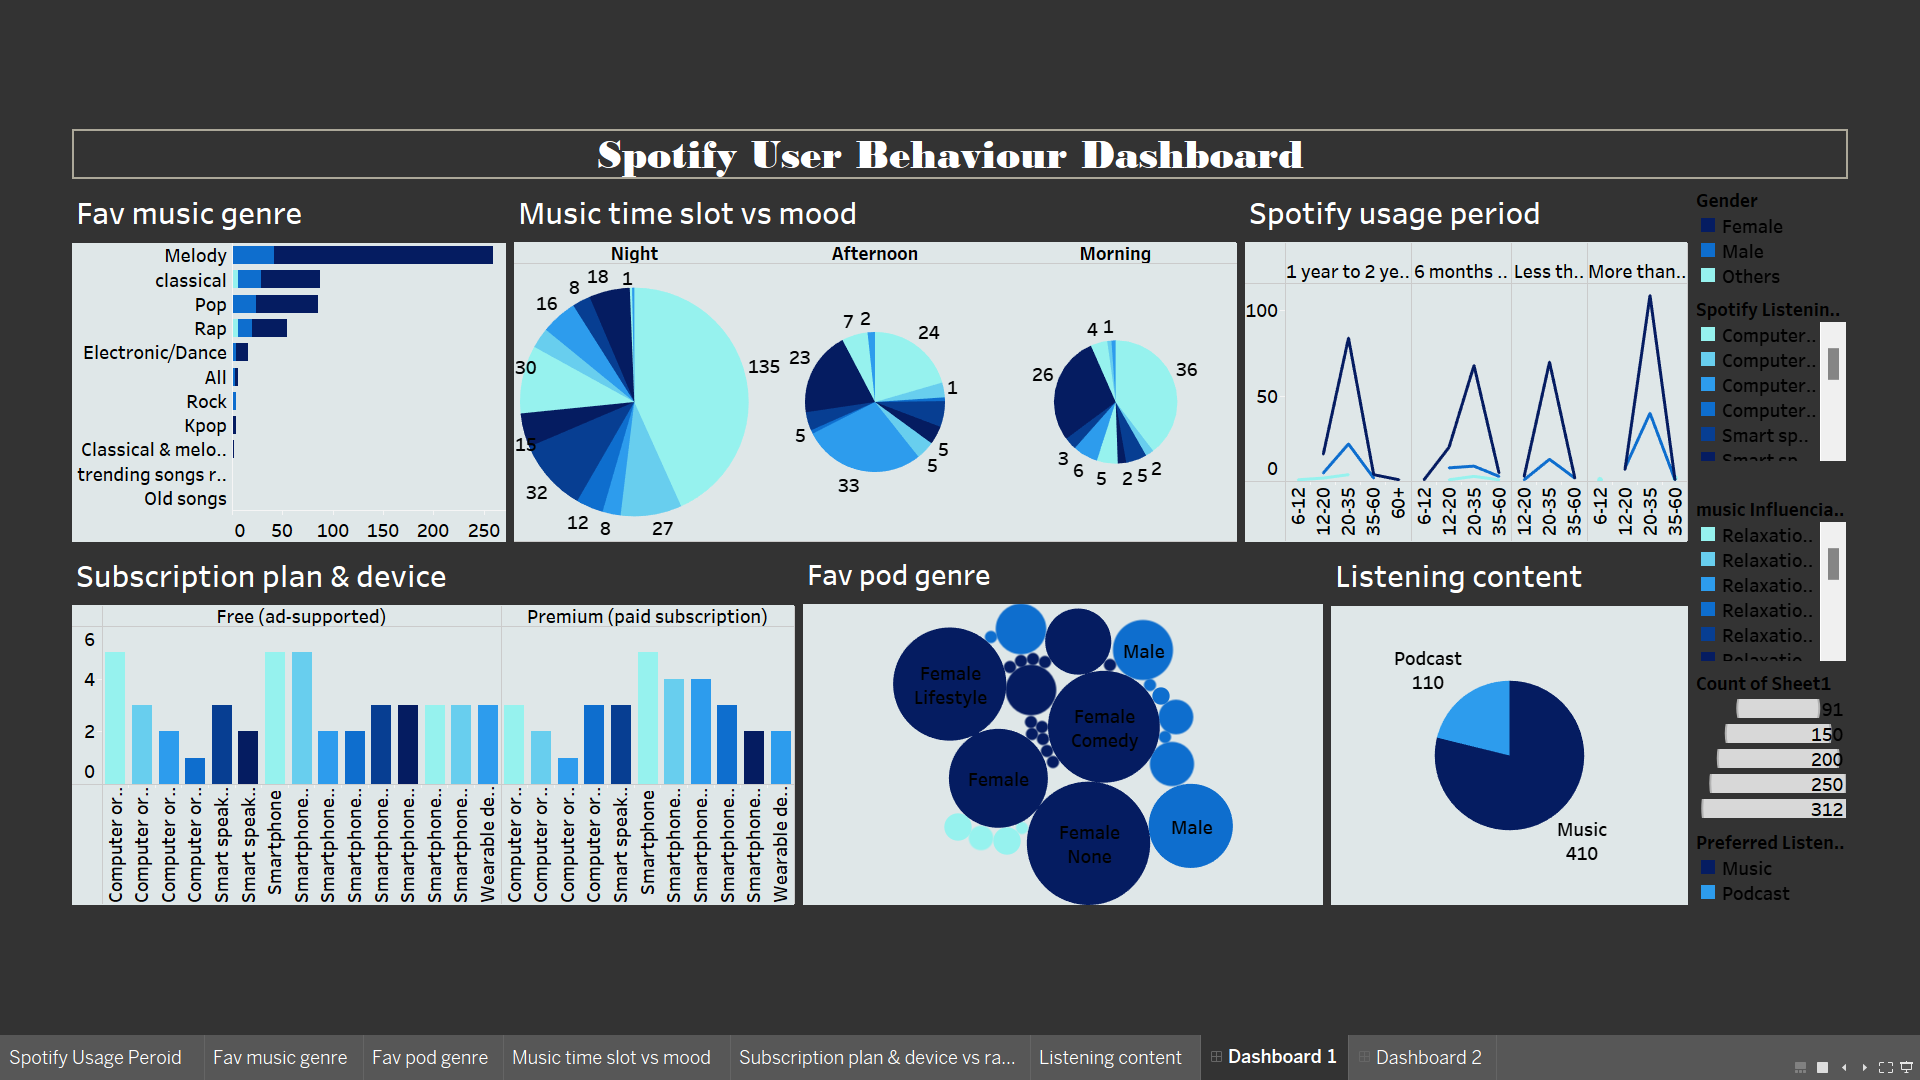

The page's visual inventory and layout, read from the dashboard file:
{"tool":"tableau","page":{"name":"Dashboard 1","canvas":[1800,800],"ordinal":0},"visuals":[{"type":"title","box":[8,8,1784,58]},{"type":"worksheet","title":"Fav music genre","mark":"Automatic","rows":["fav_music_genre"],"cols":["Sheet1_AD4E719F6E43448BB39664E344ED4A75"],"box":[8,66,442,363]},{"type":"worksheet","title":"Music time slot vs mood","mark":"Pie","cols":["music_time_slot"],"box":[450,66,731,363]},{"type":"worksheet","title":"Spotify Usage Peroid ","mark":"Line","rows":["Sheet1_AD4E719F6E43448BB39664E344ED4A75"],"cols":["spotify_usage_period","Age"],"box":[1181,66,451,363]},{"type":"legend","title":"Spotify Usage Peroid ","param":"[federated.0oj4uyf15di2jp10n98ao0y4b3xz].[none:Gender:nk]","box":[1632,66,160,109]},{"type":"legend","title":"Subscription plan & device vs rating","param":"[federated.0oj4uyf15di2jp10n98ao0y4b3xz].[none:spotify_listening_device:nk]","box":[1632,175,160,173.5]},{"type":"legend","title":"Subscription plan & device vs rating","param":"[federated.0oj4uyf15di2jp10n98ao0y4b3xz].[ctd:music_recc_rating:qk]","box":[1632,348.5,160,27]},{"type":"legend","title":"Music time slot vs mood","param":"[federated.0oj4uyf15di2jp10n98ao0y4b3xz].[none:music_Influencial_mood:nk]","box":[1632,375.5,160,173.5]},{"type":"worksheet","title":"Subscription plan & device vs rating","mark":"Automatic","rows":["music_recc_rating"],"cols":["spotify_subscription_plan","spotify_listening_device"],"box":[8,429,731,363]},{"type":"worksheet","title":"Fav pod genre","mark":"Circle","box":[739,429,528,363]},{"type":"worksheet","title":"Listening content","mark":"Pie","box":[1267,429,365,363]},{"type":"legend","title":"Music time slot vs mood","param":"[federated.0oj4uyf15di2jp10n98ao0y4b3xz].[__tableau_internal_object_id__].[cnt:S","box":[1632,549,160,159]},{"type":"legend","title":"Listening content","param":"[federated.0oj4uyf15di2jp10n98ao0y4b3xz].[none:preferred_listening_content:nk]","box":[1632,708,160,84]}]}

Visuals, with their boxes on the page's 1800x800 design canvas (x1, y1, x2, y2). These are canvas units, not pixel positions in the 1920x1080 screenshot, which may show the page scaled, cropped or inside an application window:
title: pyautogui.locateOnScreen(8, 8, 1792, 66)
"Fav music genre" worksheet: pyautogui.locateOnScreen(8, 66, 450, 429)
"Music time slot vs mood" worksheet (Pie marks): pyautogui.locateOnScreen(450, 66, 1181, 429)
"Spotify Usage Peroid " worksheet (Line marks): pyautogui.locateOnScreen(1181, 66, 1632, 429)
"Spotify Usage Peroid " legend: pyautogui.locateOnScreen(1632, 66, 1792, 175)
"Subscription plan & device vs rating" legend: pyautogui.locateOnScreen(1632, 175, 1792, 348)
"Subscription plan & device vs rating" legend: pyautogui.locateOnScreen(1632, 348, 1792, 376)
"Music time slot vs mood" legend: pyautogui.locateOnScreen(1632, 376, 1792, 549)
"Subscription plan & device vs rating" worksheet: pyautogui.locateOnScreen(8, 429, 739, 792)
"Fav pod genre" worksheet (Circle marks): pyautogui.locateOnScreen(739, 429, 1267, 792)
"Listening content" worksheet (Pie marks): pyautogui.locateOnScreen(1267, 429, 1632, 792)
"Music time slot vs mood" legend: pyautogui.locateOnScreen(1632, 549, 1792, 708)
"Listening content" legend: pyautogui.locateOnScreen(1632, 708, 1792, 792)
